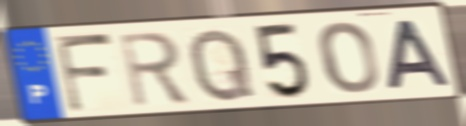5: (252, 20, 311, 101)
A: (384, 17, 453, 92)
F: (52, 32, 117, 115)
O: (316, 19, 382, 96)
Q: (186, 25, 258, 105)
R: (117, 29, 193, 110)
